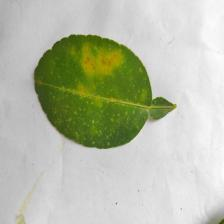greening: (62, 41, 139, 128)
